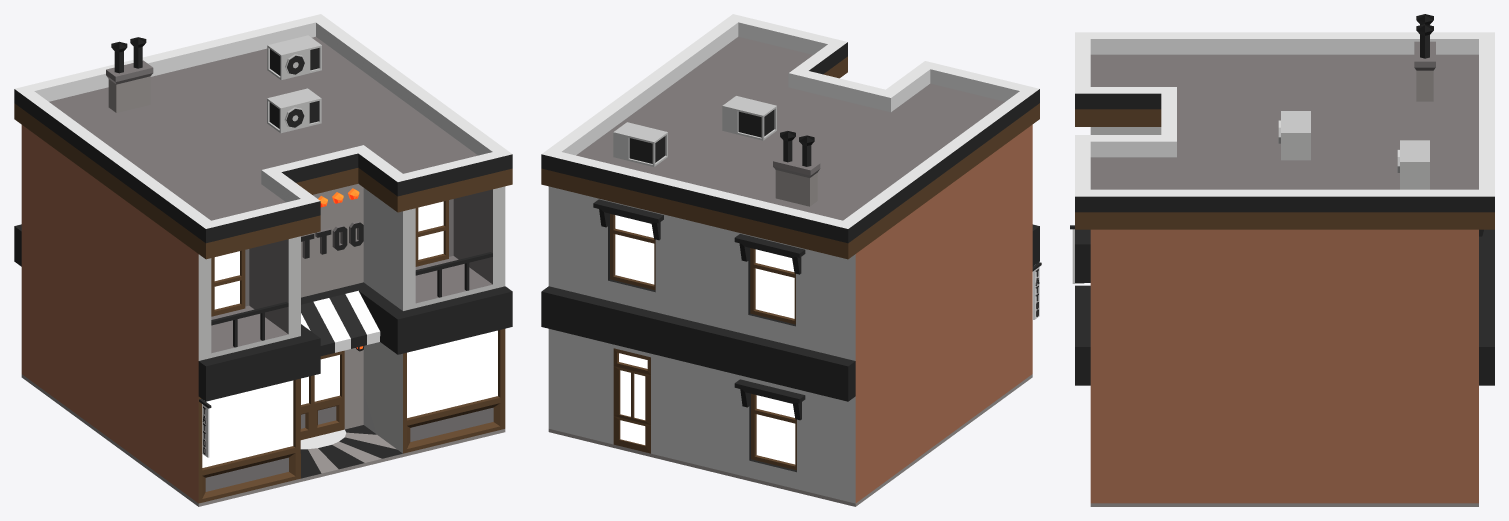
Rendered from buildings-building-tattoo.glb.
The picture shows the model from 3 angles, left to right: view 1: azimuth 30°, elevation 25°; view 2: azimuth 150°, elevation 25°; view 3: azimuth 270°, elevation 25°; orthographic projection. The views are drawn at different scales.
Parts seen in each view (by area): view 1: building-tattoo; view 2: building-tattoo; view 3: building-tattoo.
Boxes of the visible parts, x1,y1,x2,y2 form: building-tattoo: (14,14,512,506); building-tattoo: (541,14,1041,506); building-tattoo: (1070,14,1494,506).
Bounding box in the file's own units: 9 × 9.38 × 9.85.
